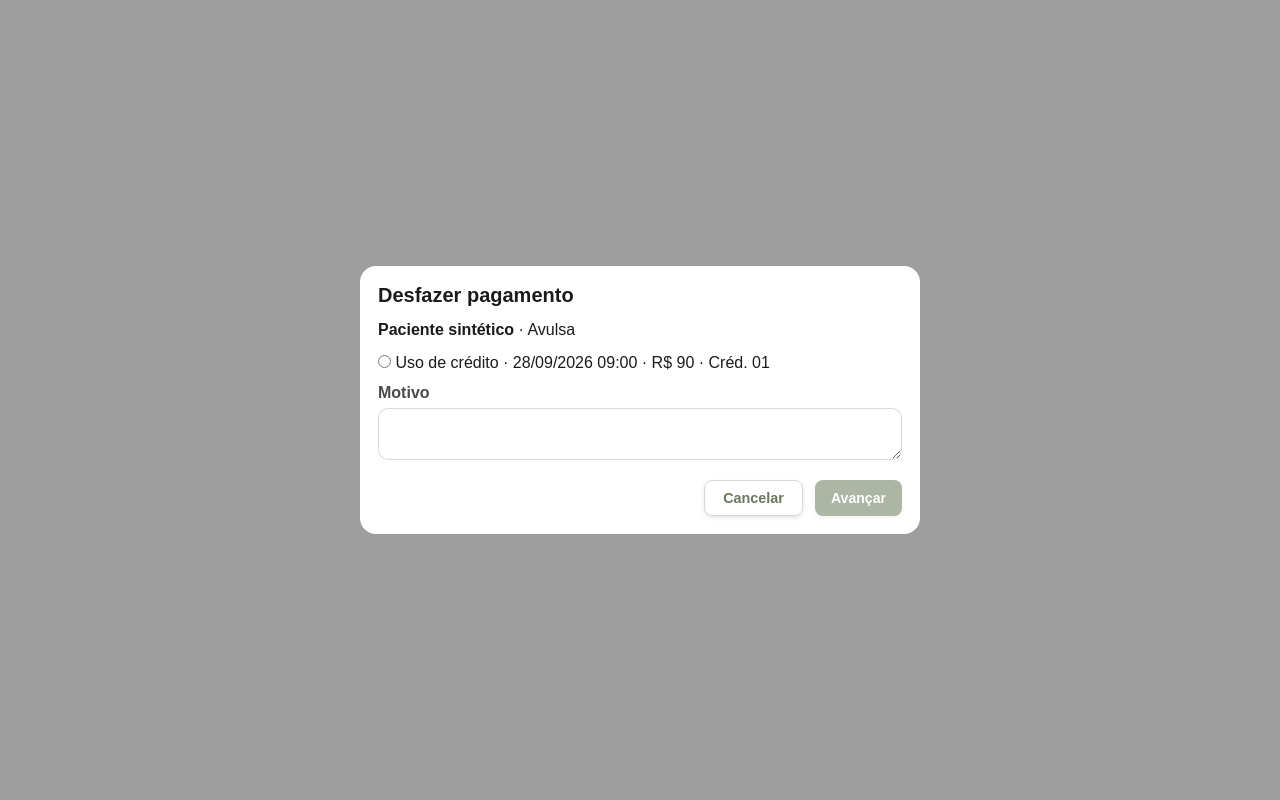
Test: uso de crédito omite origem redundante na seleção e na confirmação
Click the radio button labelled "Uso de crédito · 28/09/2026 09:00 · R$ 90 · Créd. 01". click: point(384, 361)
box: [378,355,391,368]
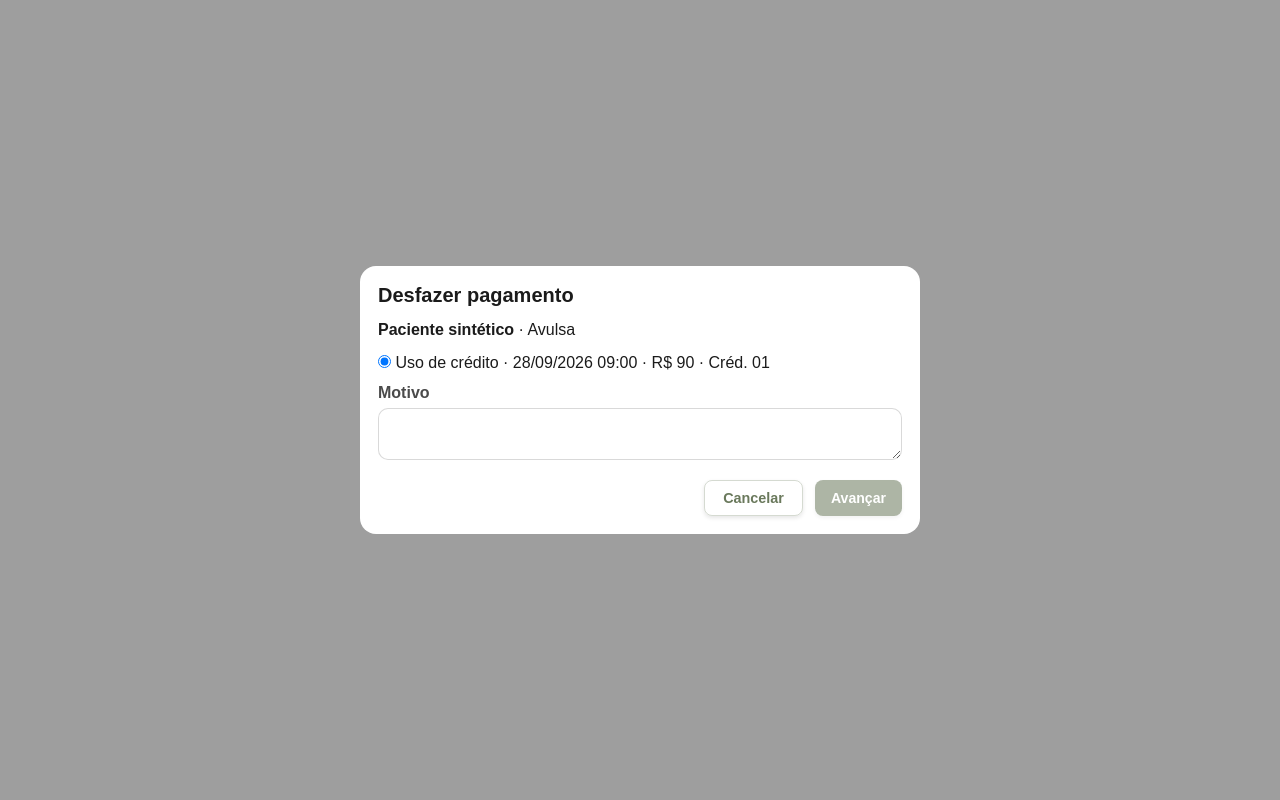
Type "Destino errado" into the text box labelled "Motivo". click: point(640, 434)
box: [378,408,902,460]
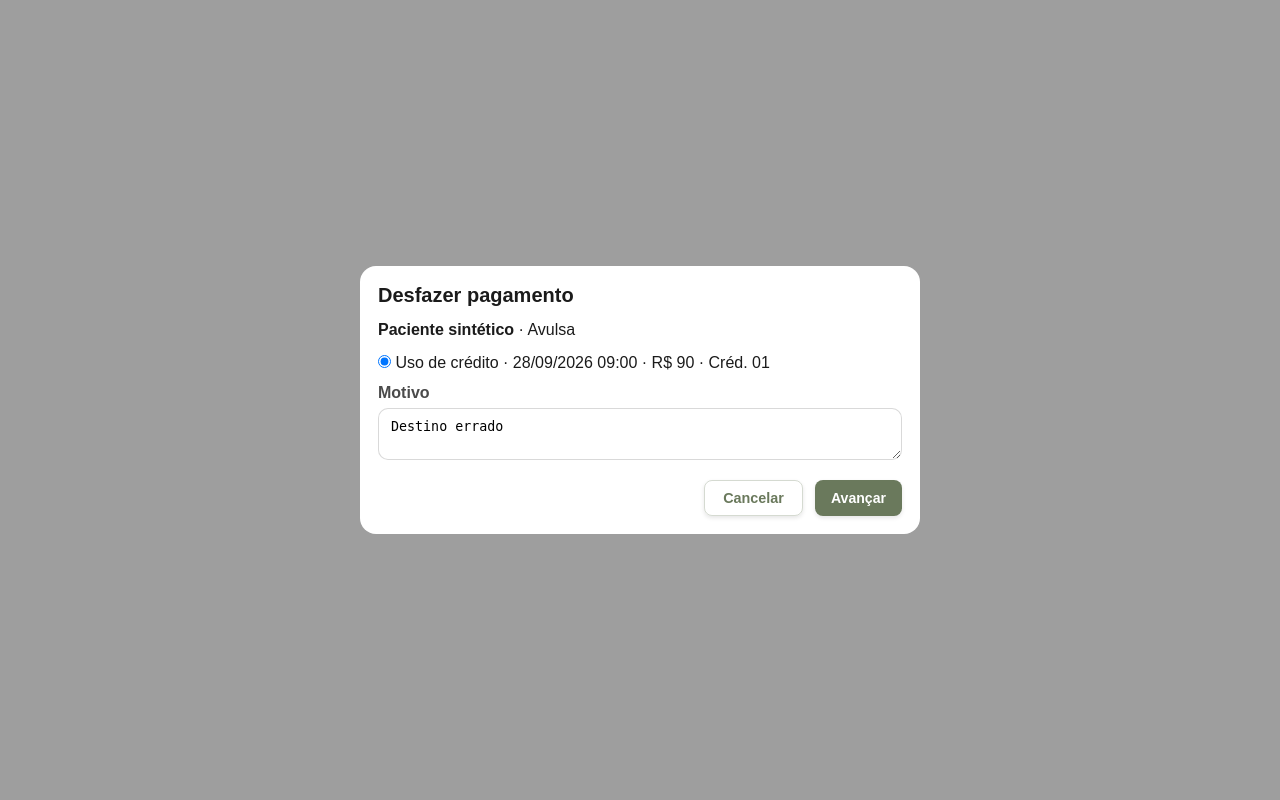
Click the button "Avançar". click: point(858, 498)
box: [815,480,902,516]
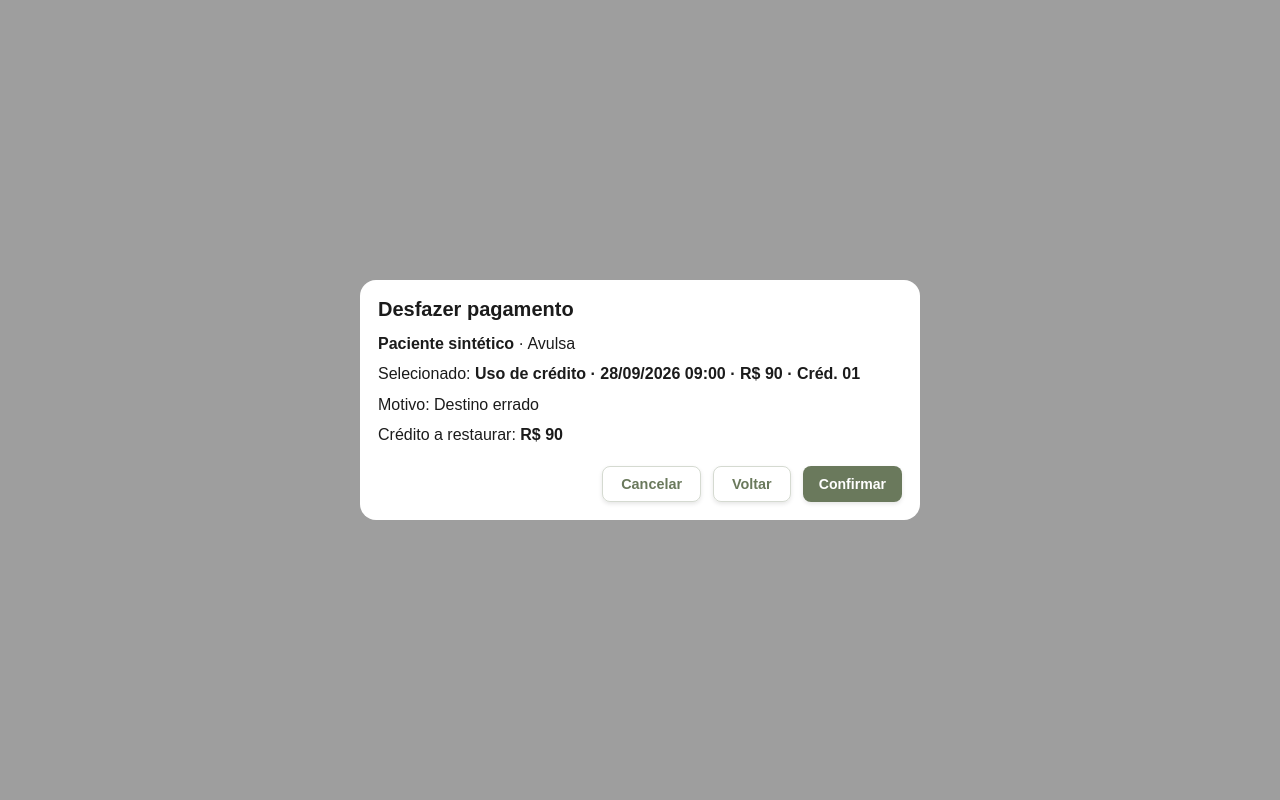
Check: the button "Confirmar" is shown, box [803,466,902,502]
Check: the text "Selecionado:" reads "Selecionado: Uso de crédito · 28/09/2026 09:00 · R$ 90 · Créd. 01", box [475,365,860,382]
Check: the text "Crédito a restaurar: R$ 90" is shown, box [378,426,563,443]
